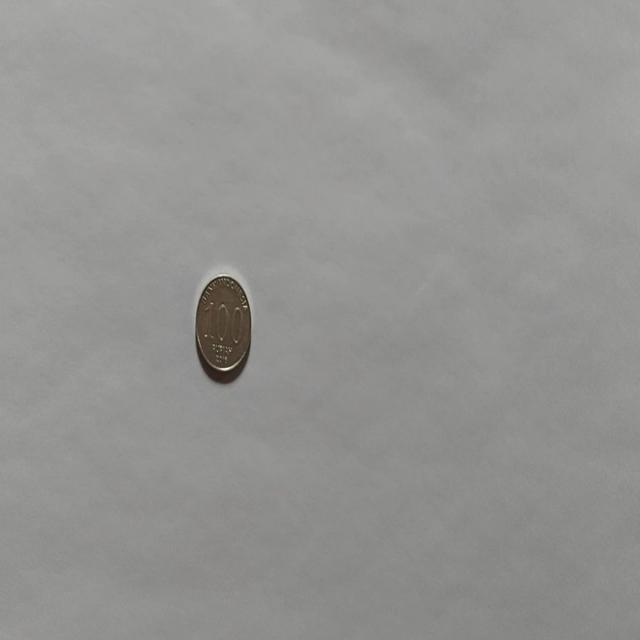seratus rupiah: (194, 272, 252, 378)
